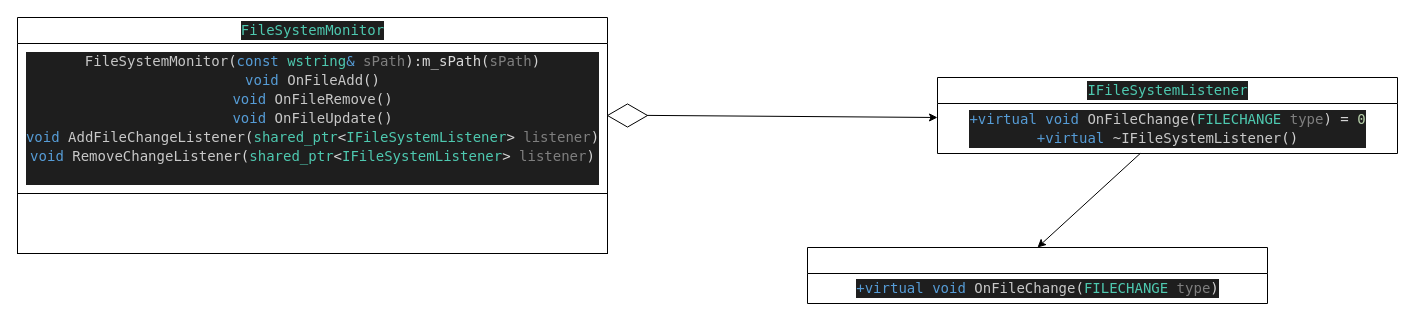
The diagram is 1415 pixels wide and 321 high, and some of its shapes have lost their labels. The box of each missing label's shape, as (x1, y1, x2, y2) in pixels:
FileSystemListener: (806, 246, 1268, 304)
vector < shared_ptr < IFileSystemListener >> m_Listeners ; wstring m_sPath ;: (16, 192, 608, 254)
